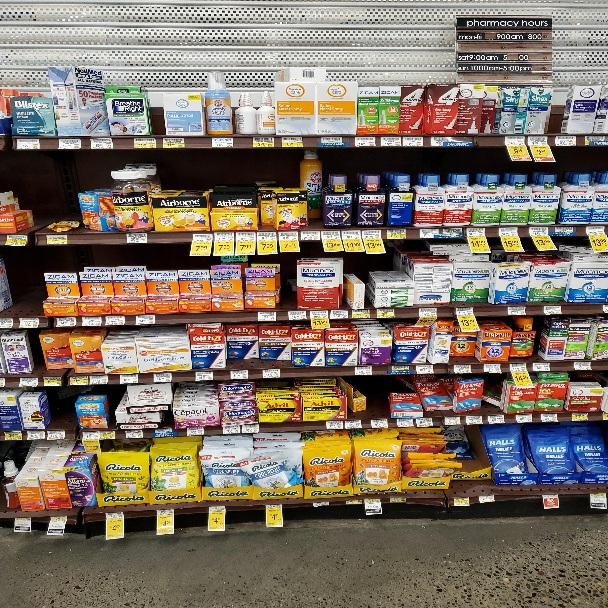All PRICE TAGS: (58, 138, 81, 148), (212, 137, 233, 147), (555, 136, 576, 146), (281, 137, 302, 147), (7, 235, 26, 246), (46, 235, 68, 244), (91, 138, 113, 147), (17, 139, 39, 148), (69, 375, 88, 385), (253, 136, 274, 145), (320, 137, 343, 145), (322, 230, 340, 240), (163, 138, 185, 146), (134, 138, 156, 146), (505, 136, 524, 145), (404, 137, 423, 146), (105, 512, 124, 521), (136, 316, 155, 325), (19, 318, 38, 327), (586, 226, 605, 235), (586, 136, 605, 145), (20, 377, 37, 387), (126, 234, 147, 242), (354, 137, 375, 145), (207, 505, 225, 514), (57, 317, 75, 326), (432, 137, 450, 146), (381, 137, 399, 146), (544, 306, 562, 315), (555, 226, 573, 235), (120, 374, 138, 383), (195, 371, 213, 380), (386, 229, 406, 237), (528, 136, 548, 144), (157, 508, 174, 517), (508, 306, 525, 315), (43, 377, 60, 386), (376, 309, 395, 317), (257, 312, 276, 320), (82, 317, 101, 325), (499, 228, 518, 236), (362, 230, 381, 238), (257, 232, 276, 240), (193, 233, 212, 241), (351, 310, 369, 318), (530, 227, 548, 235), (467, 228, 485, 236), (443, 228, 461, 236), (419, 229, 437, 237), (301, 231, 319, 239), (237, 233, 255, 241), (445, 416, 461, 425), (397, 418, 413, 427), (125, 430, 143, 438), (453, 365, 471, 373), (391, 365, 409, 373), (106, 317, 124, 325), (4, 432, 22, 440), (47, 431, 65, 439), (572, 412, 588, 421), (90, 376, 108, 384), (154, 373, 172, 381), (230, 370, 248, 378), (456, 308, 473, 316), (331, 310, 348, 318), (311, 311, 328, 319), (342, 231, 359, 239), (466, 416, 483, 424), (533, 363, 550, 371), (416, 365, 433, 373), (263, 369, 280, 377), (27, 431, 44, 439), (215, 233, 234, 240), (479, 495, 495, 503), (289, 311, 305, 319), (417, 418, 433, 426), (346, 421, 362, 429), (326, 421, 342, 429), (187, 427, 203, 435), (485, 364, 501, 372), (574, 362, 590, 370), (419, 309, 437, 316), (517, 414, 531, 423), (454, 497, 469, 505), (365, 498, 380, 506), (267, 503, 282, 511), (372, 420, 387, 428), (243, 424, 258, 432), (84, 431, 99, 439), (100, 431, 115, 439), (510, 364, 527, 371), (354, 367, 371, 374), (50, 516, 67, 523), (280, 232, 296, 239), (489, 415, 503, 423), (224, 425, 238, 433), (541, 414, 557, 421), (1, 318, 12, 328), (348, 498, 361, 505), (389, 497, 405, 502), (313, 501, 330, 505)
